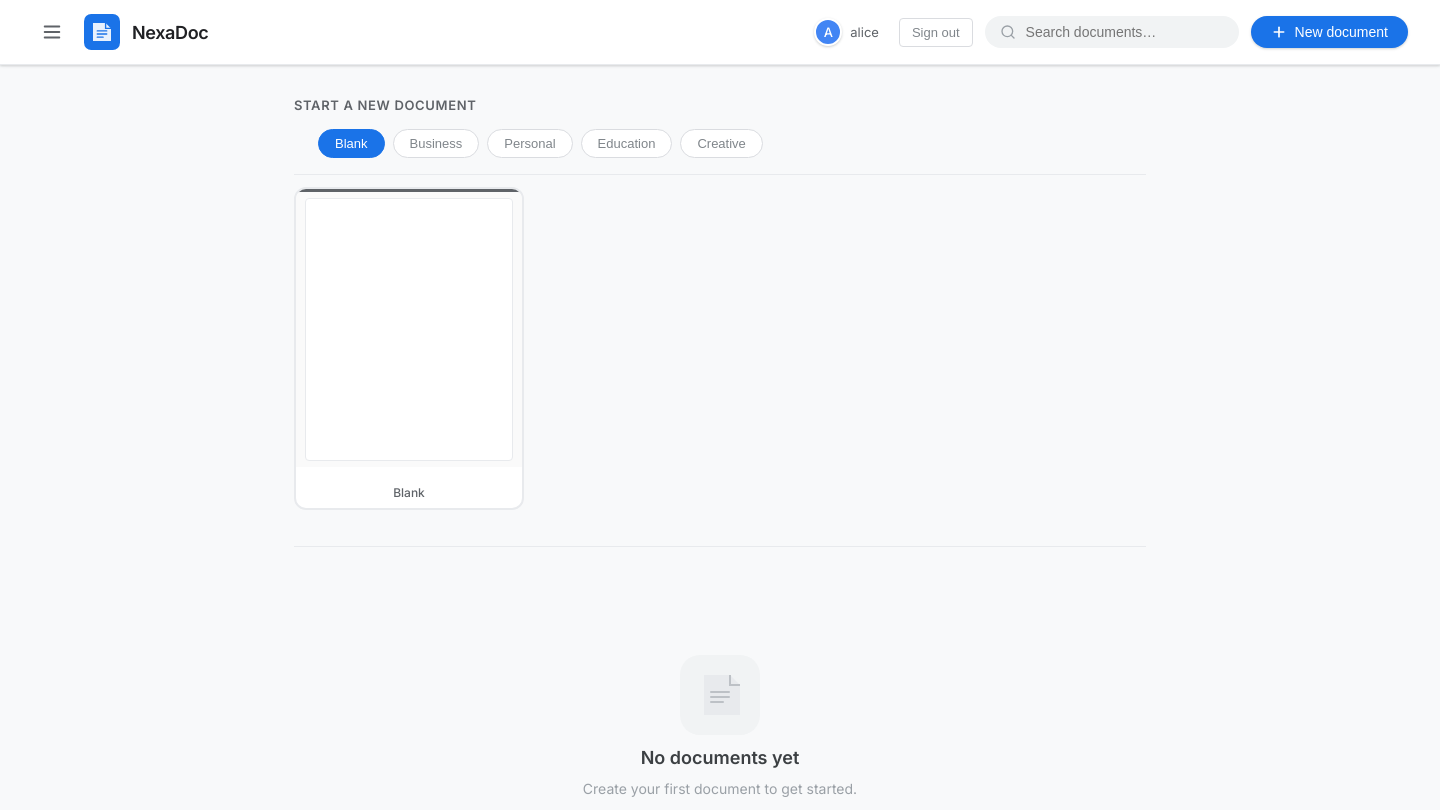
Test: DocsPage › creates document with custom name when user types one
The width and height of the screenshot is (1440, 810).
Expected: the text "Start a new document" is shown, [294,97,476,113]
Click Blank template card
Click the 2nd button titled "Start from scratch" at x=409, y=348, box [294,187,524,510]
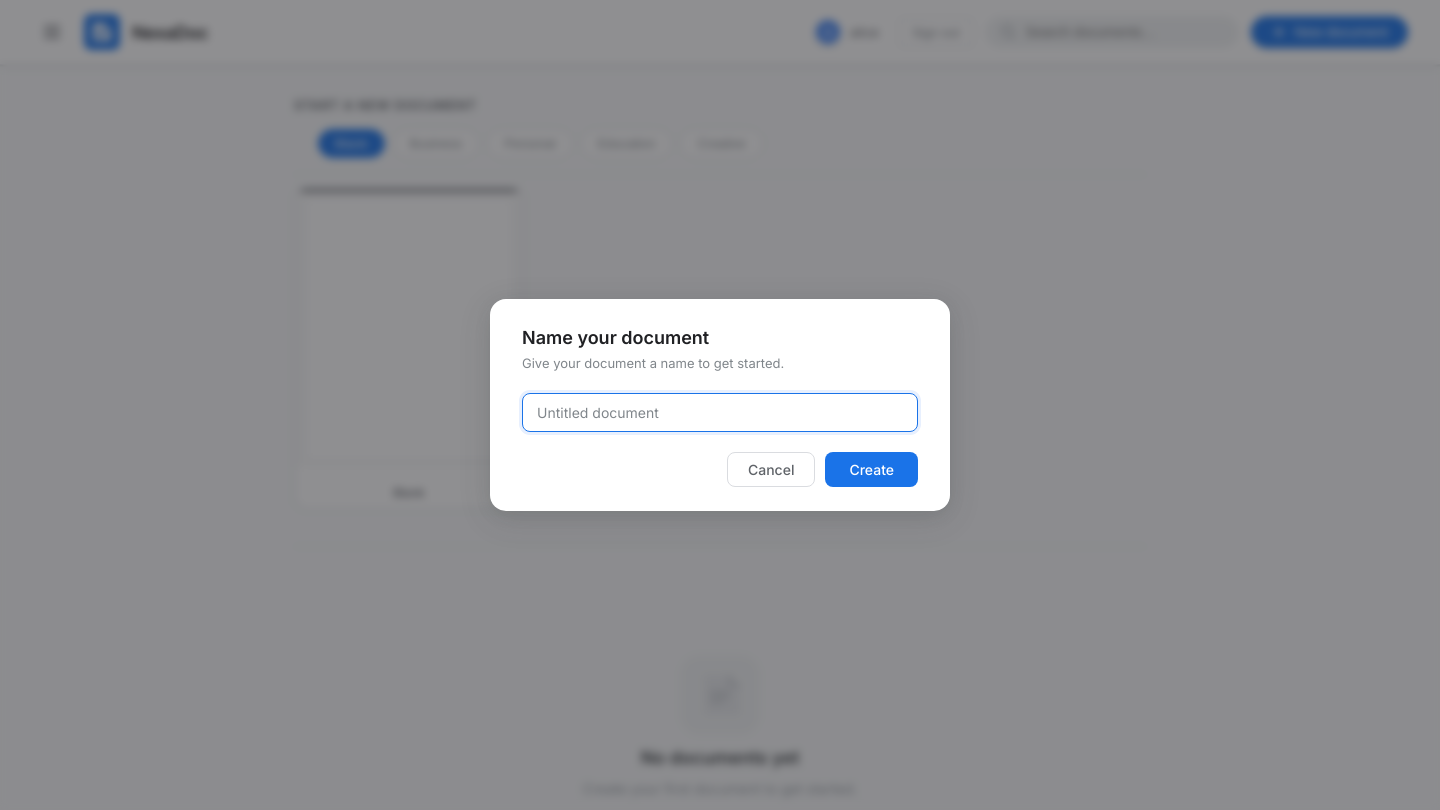
Type a custom name
Type "My Custom Doc" into the field with placeholder "Untitled document" at x=720, y=413, box [522,393,918,432]
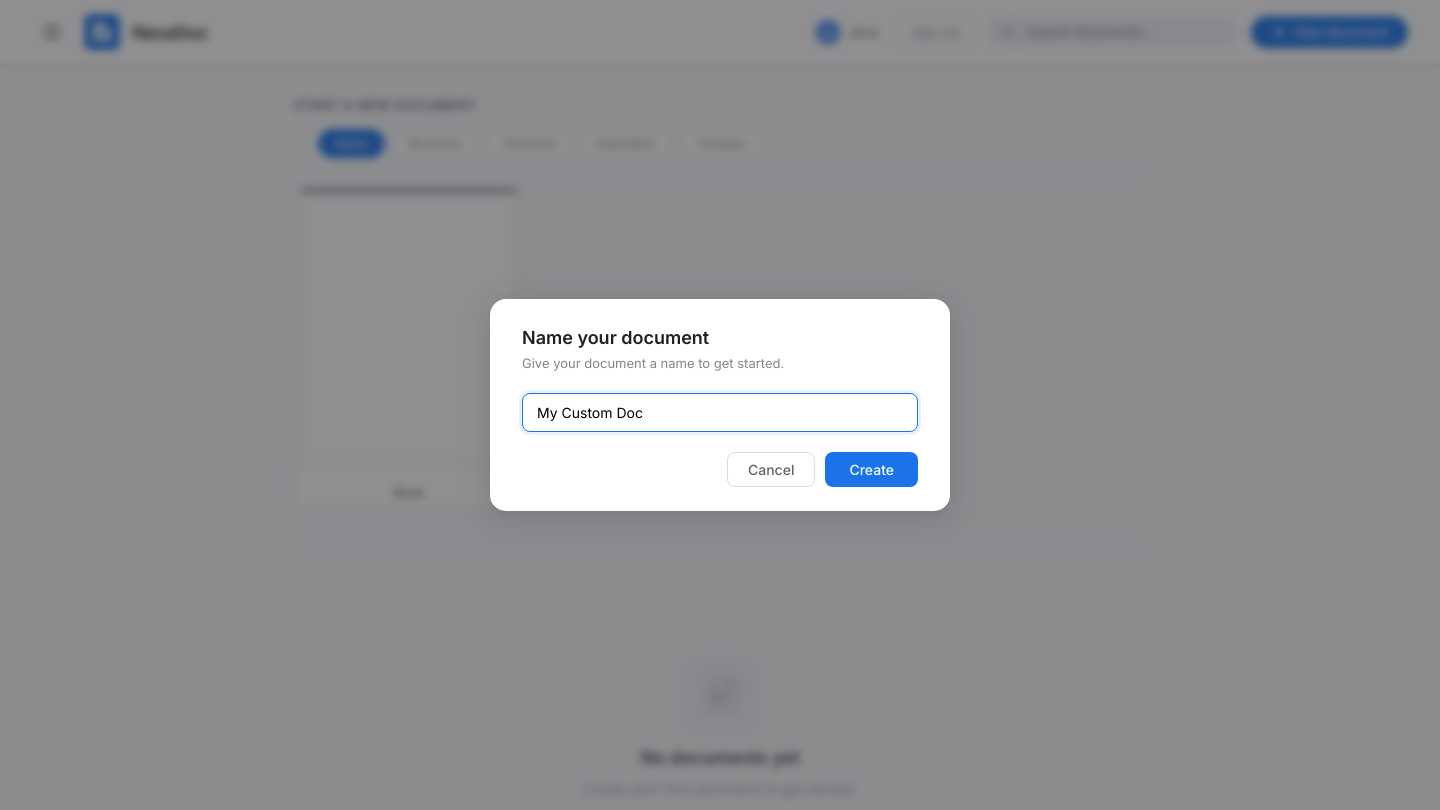
Click the button "Create" at x=872, y=470, box [825,452,918,487]
(page scrolled)
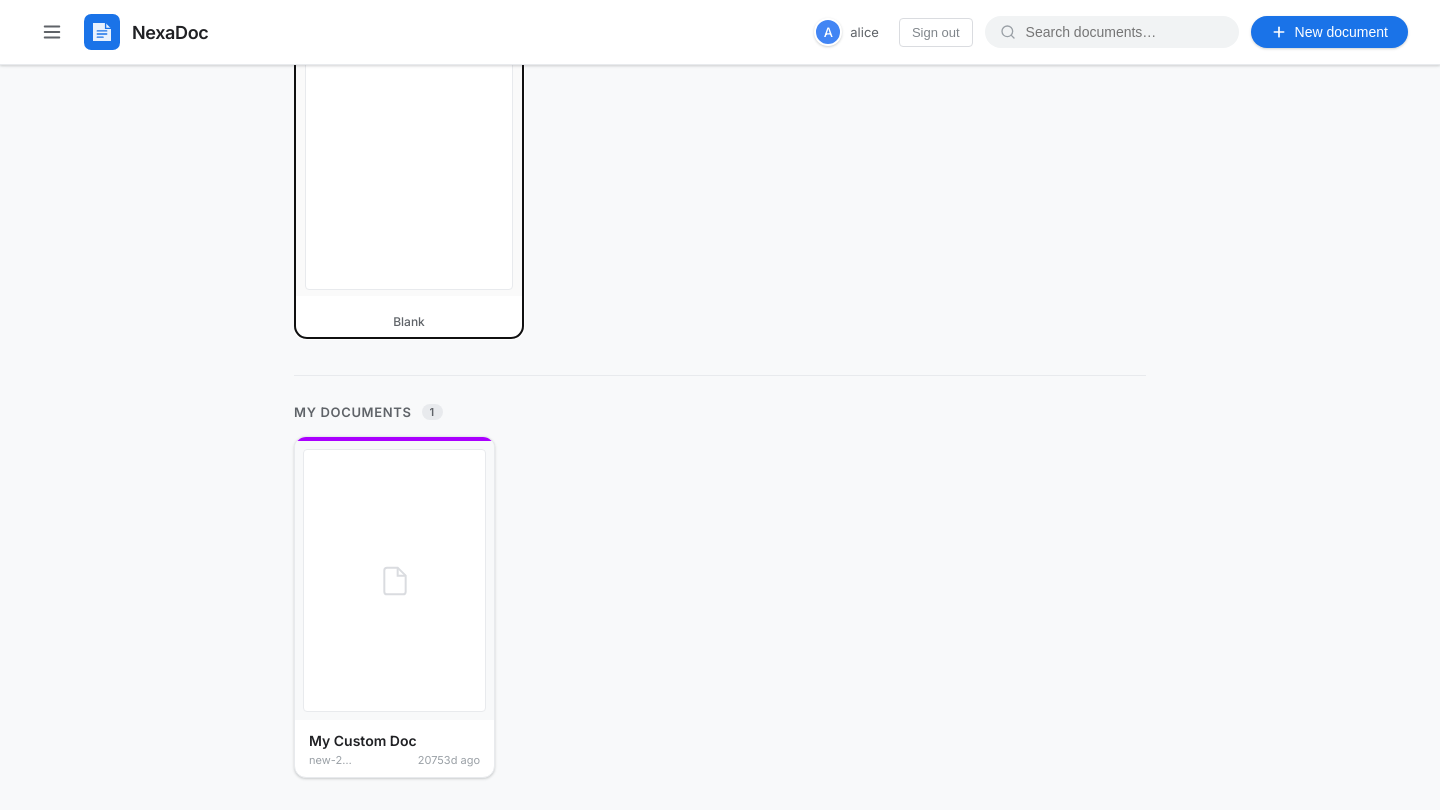
Now the text "My Custom Doc" is shown, box [309,732,417,749]
